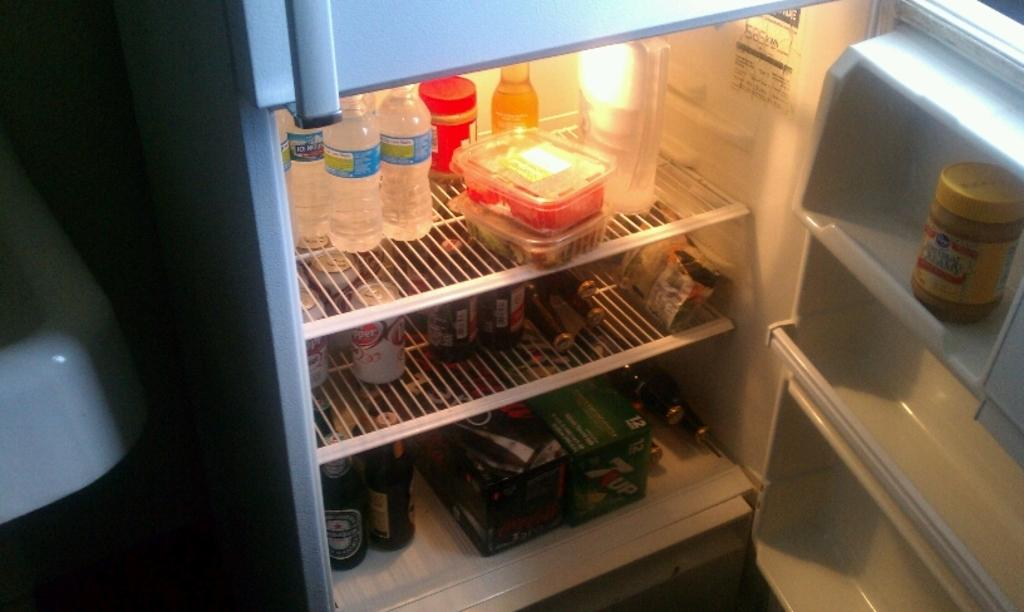handle: (276, 18, 355, 127)
